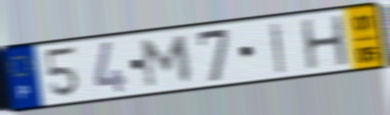4: (92, 40, 129, 97)
5: (41, 46, 83, 101)
7: (194, 28, 234, 84)
H: (299, 13, 352, 73)
I: (268, 20, 287, 76)
M: (141, 33, 195, 90)
